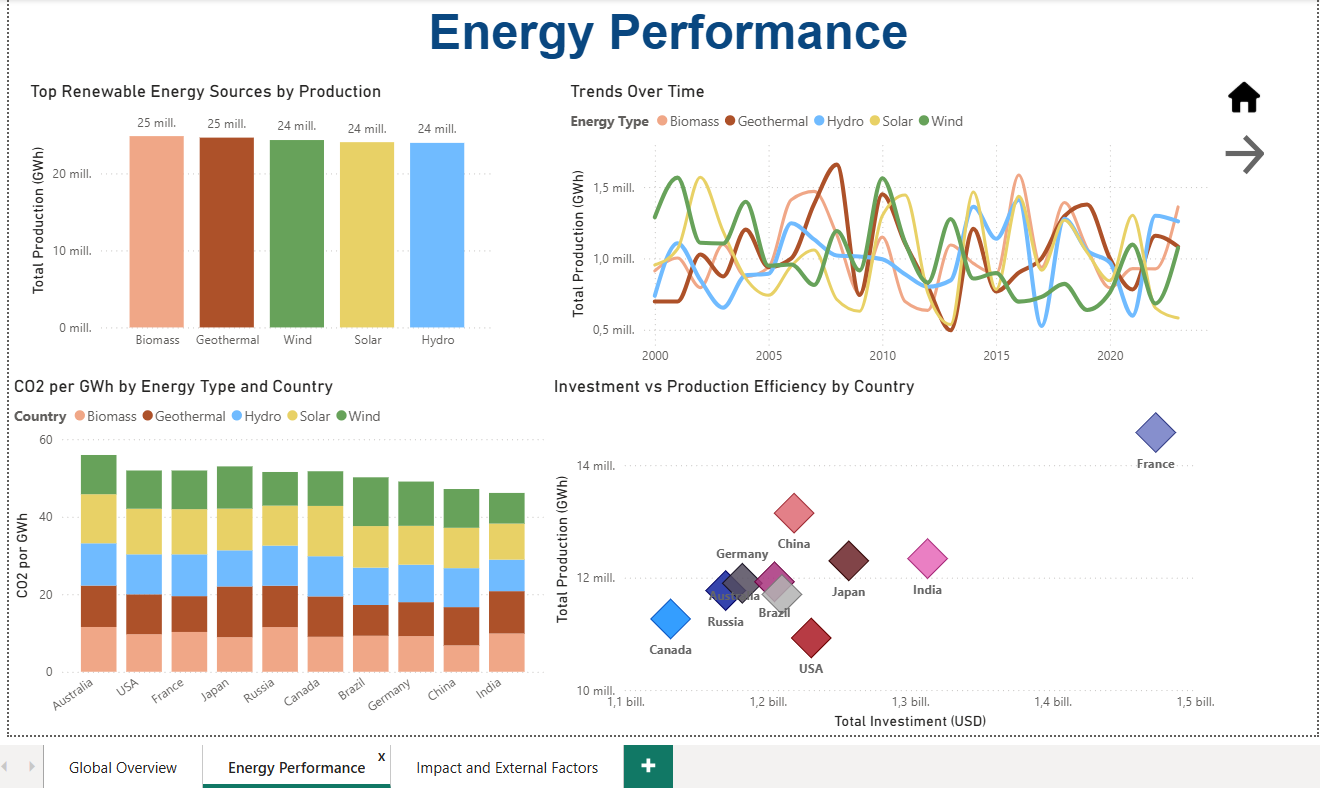

Layout of this report page (visuals, bound fields, positions):
{"tool":"powerbi","page":{"name":"Energy Performance","canvas":[1280,720],"ordinal":1},"visuals":[{"type":"scatterChart","title":"Investment vs Production Efficiency by Country","fields":{"X":["FactRenewables.Total Investiment (USD)"],"Y":["FactRenewables.Total Production (GWh)"],"Series":["Dim_Country.Country"],"Size":["Count(Dim_Country.Country)"]},"box":[528,368,656,352],"z":1000},{"type":"lineChart","title":"Trends Over Time","fields":{"Category":["Dim_Date.Year"],"Y":["FactRenewables.Total Production (GWh)"],"Series":["Dim_EnergyType.Energy Type"]},"box":[544,80,640,288],"z":2000},{"type":"columnChart","title":"CO2 per GWh by Energy Type and Country","fields":{"Y":["FactRenewables.CO2 por GWh"],"Series":["FactRenewables.Energy Type"],"Category":["FactRenewables.Country"]},"box":[0,368,528,352],"z":3000},{"type":"actionButton","box":[1184,128,64,48],"z":7000},{"type":"image","box":[1168,64,80,64],"z":8000},{"type":"clusteredColumnChart","title":"Top Renewable Energy Sources by Production","fields":{"Y":["FactRenewables.Total Production (GWh)"],"Category":["Dim_EnergyType.Energy Type"]},"box":[16,80,464,272],"z":8001},{"type":"textbox","box":[9.3,0,1270.7,71.4],"z":8002}]}

Visuals, with their boxes on the page's 1280x720 design canvas (x1, y1, x2, y2). These are canvas units, not pixel positions in the 1320x788 screenshot, which may show the page scaled, cropped or inside an application window:
"Investment vs Production Efficiency by Country" scatterChart: l=528, t=368, r=1184, b=720
"Trends Over Time" lineChart: l=544, t=80, r=1184, b=368
"CO2 per GWh by Energy Type and Country" columnChart: l=0, t=368, r=528, b=720
actionButton: l=1184, t=128, r=1248, b=176
image: l=1168, t=64, r=1248, b=128
"Top Renewable Energy Sources by Production" clusteredColumnChart: l=16, t=80, r=480, b=352
textbox: l=9, t=0, r=1280, b=71
